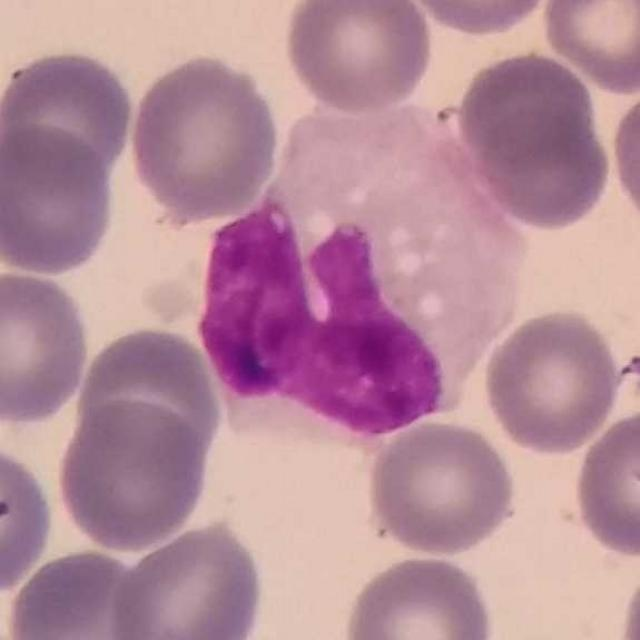Monocyte: (196, 102, 529, 432)
RBC: (123, 49, 284, 221), (53, 395, 214, 553), (69, 322, 226, 473), (362, 416, 521, 559), (478, 305, 624, 457), (458, 101, 616, 233), (104, 517, 269, 640), (0, 45, 138, 188), (0, 120, 119, 280), (452, 46, 601, 172), (283, 0, 437, 117), (0, 266, 92, 428), (1, 545, 155, 640), (339, 551, 498, 640), (569, 406, 640, 561), (536, 0, 640, 96), (0, 436, 58, 600), (395, 0, 558, 37), (606, 79, 640, 238), (615, 555, 640, 639)
